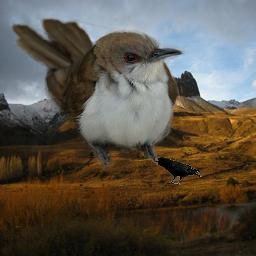Crow: (154, 157, 202, 185)
Cuckoo: (11, 17, 185, 172)
